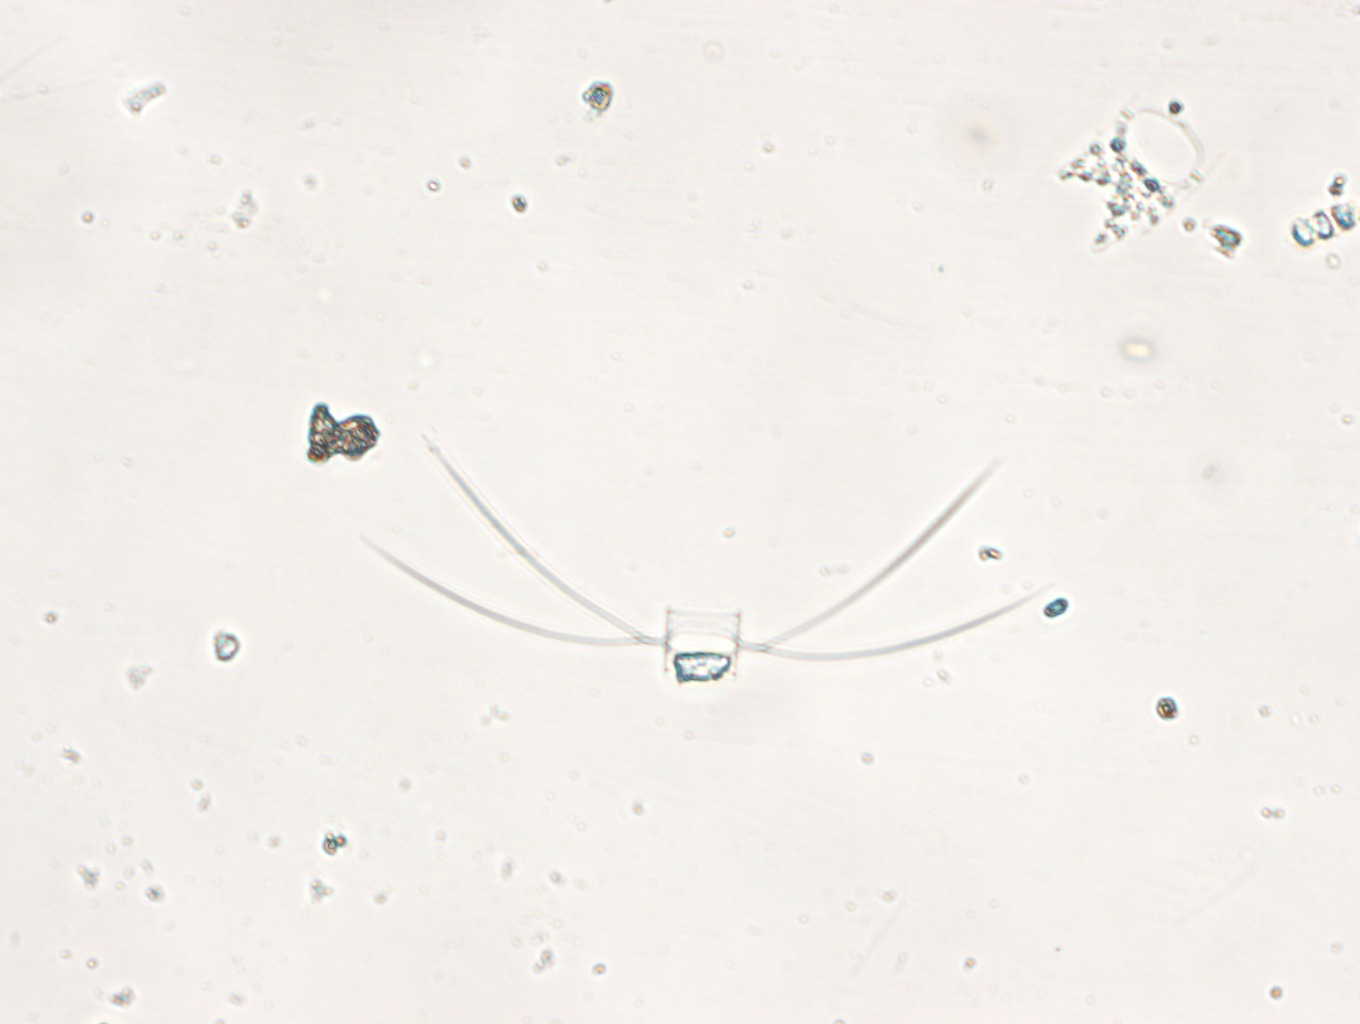chaetoceros: (369, 446, 1046, 689)
